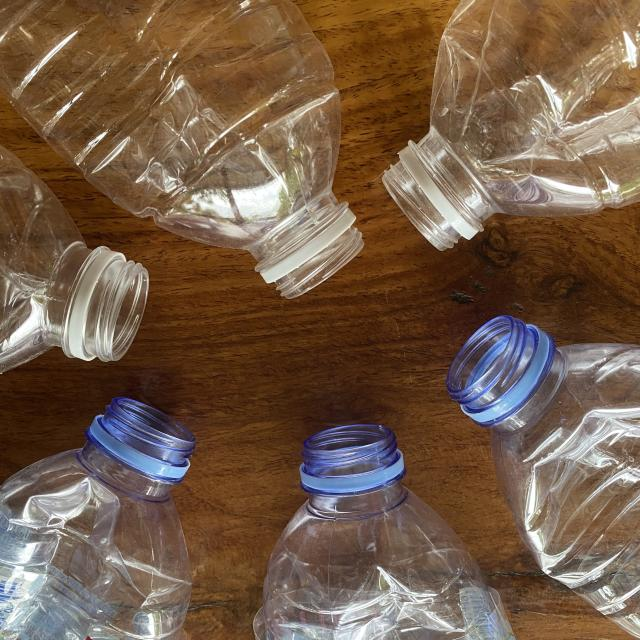plastik: (0, 0, 363, 298), (383, 0, 640, 251), (447, 315, 640, 639), (254, 425, 514, 640), (0, 398, 196, 640), (0, 145, 149, 373)
